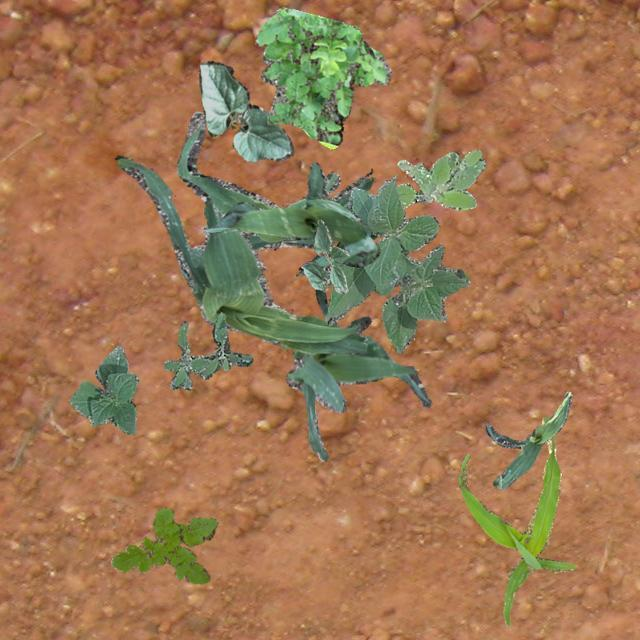crop: (115, 154, 366, 353), (176, 110, 372, 252), (324, 176, 468, 352), (456, 416, 574, 624), (284, 316, 430, 460), (202, 160, 380, 274), (198, 60, 292, 160), (484, 390, 570, 488), (68, 344, 138, 434), (315, 230, 377, 316), (301, 218, 348, 292)
weed: (255, 8, 390, 148), (110, 507, 216, 582), (162, 310, 252, 390), (394, 148, 484, 208)
